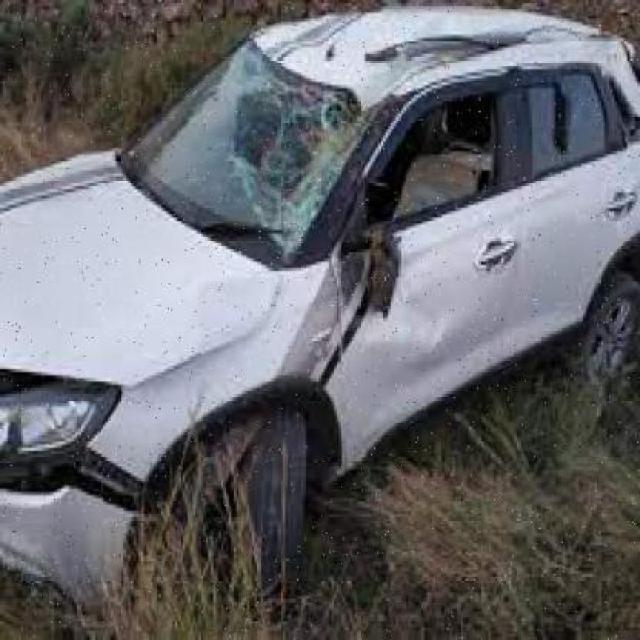Front-Windscreen-Damage: (131, 51, 368, 287)
Headlight-Damage: (3, 346, 124, 507)
doorouter-dent: (345, 240, 525, 480)
roof-dent: (257, 3, 637, 95)
